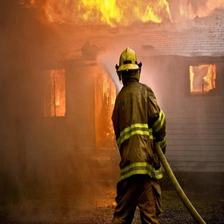fire: (23, 1, 220, 32), (84, 54, 115, 159), (42, 52, 74, 138), (184, 56, 217, 107)
